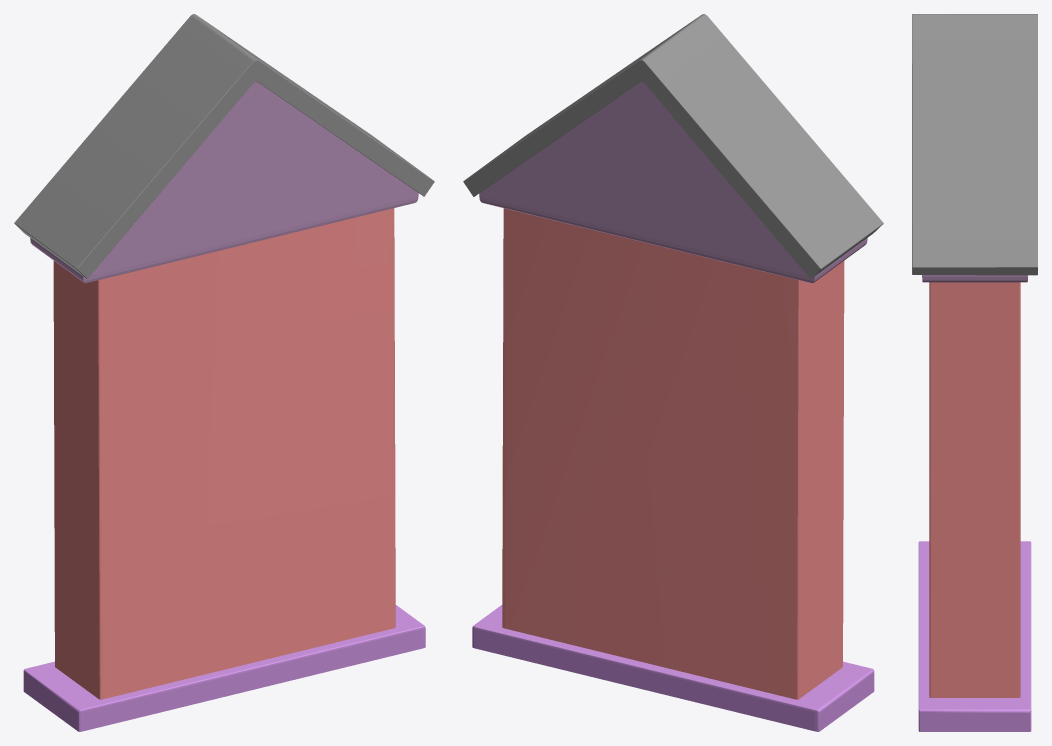
File: gravestone2_low.FBX
3 views of the same model, side by side, from view 1: azimuth 30°, elevation 25°; view 2: azimuth 150°, elevation 25°; view 3: azimuth 270°, elevation 25° (orthographic).
Parts seen in each view (by area): view 1: body_low, top_low, body1_low, bottom_low; view 2: body_low, top_low, body1_low, bottom_low; view 3: body_low, top_low, bottom_low, body1_low.
Part boxes in pixels (box(x1,y1,x2,y2)): body_low: box(53, 208, 395, 699); top_low: box(14, 14, 434, 278); body1_low: box(30, 82, 418, 283); bottom_low: box(23, 605, 425, 731); body_low: box(502, 208, 844, 699); top_low: box(463, 14, 883, 279); body1_low: box(479, 82, 867, 283); bottom_low: box(472, 605, 874, 731); body_low: box(929, 282, 1020, 697); top_low: box(912, 14, 1037, 275); bottom_low: box(918, 541, 1031, 731); body1_low: box(922, 275, 1027, 282).
Size of the model in its own units: 970 by 1636 by 295.
